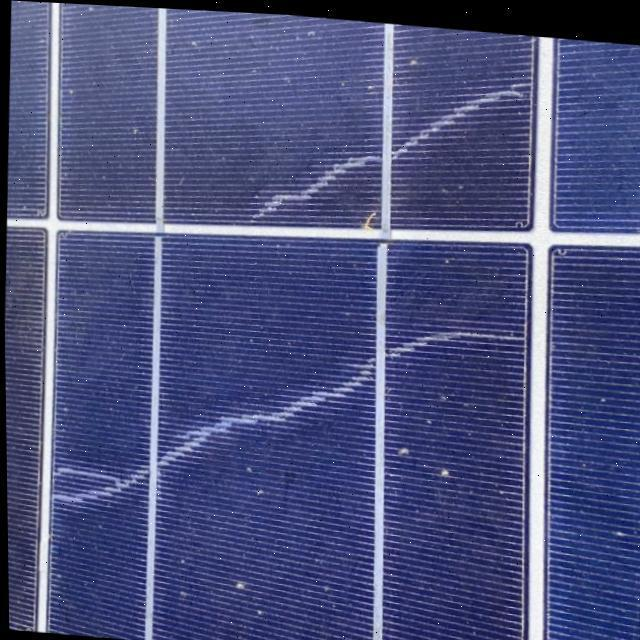Anomaly Solar Panel: (4, 0, 640, 640)
Structural Damage: (37, 317, 477, 517), (380, 74, 534, 156), (241, 140, 381, 225)
